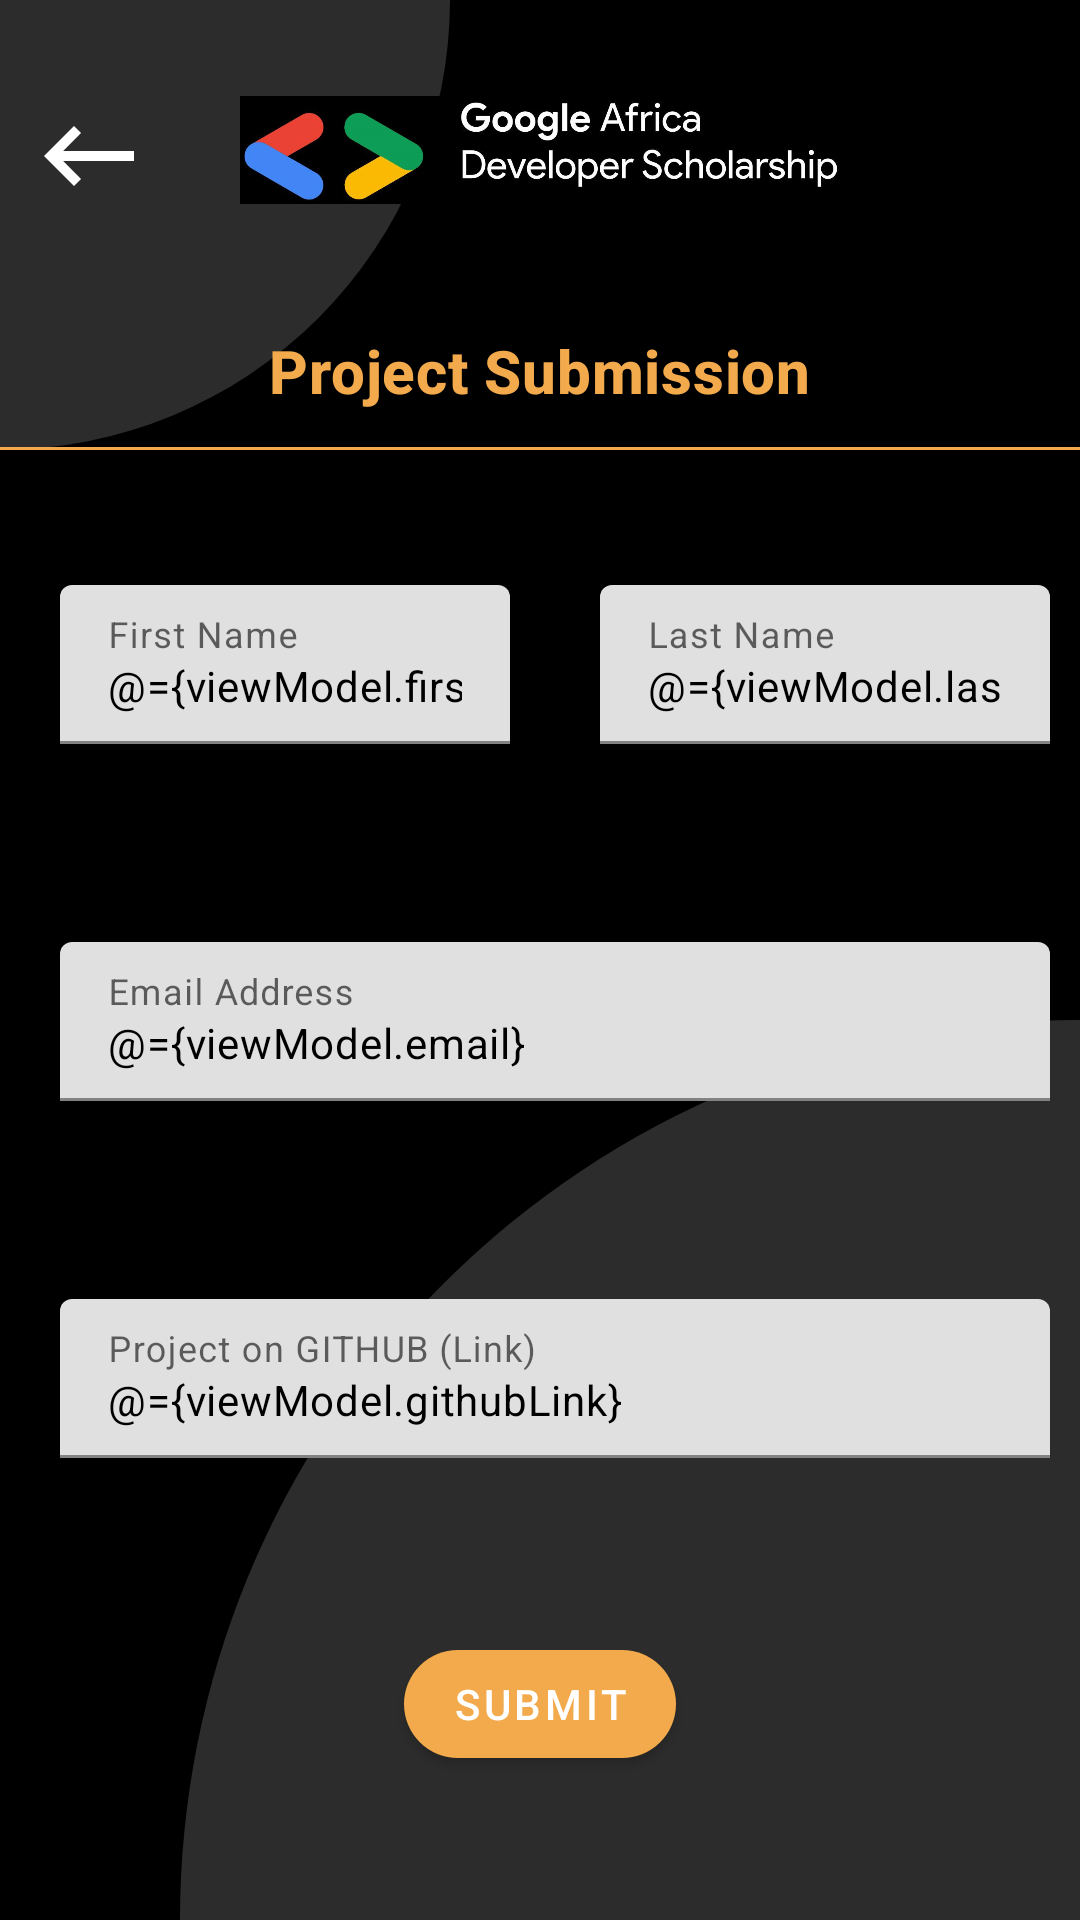

Screen size 1080×1920. Icon name, then its box in pixels as (x1, y1, x2, y2):
back: (44, 126, 134, 186)
